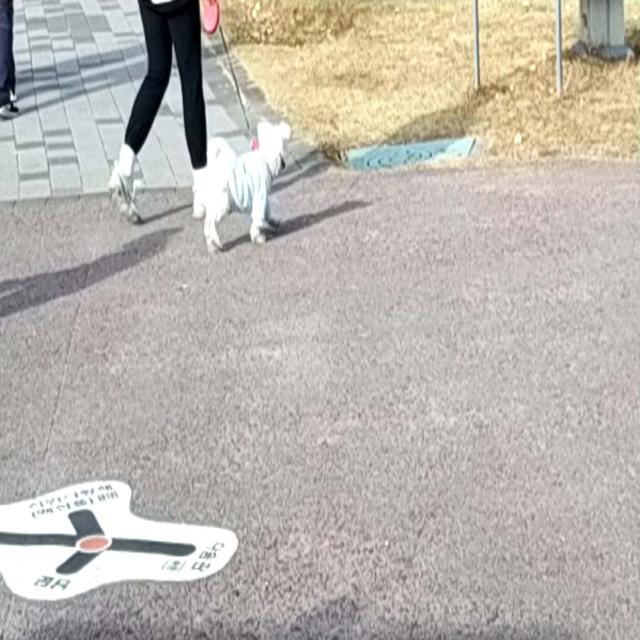Leashed_Dog: (137, 0, 291, 252)
